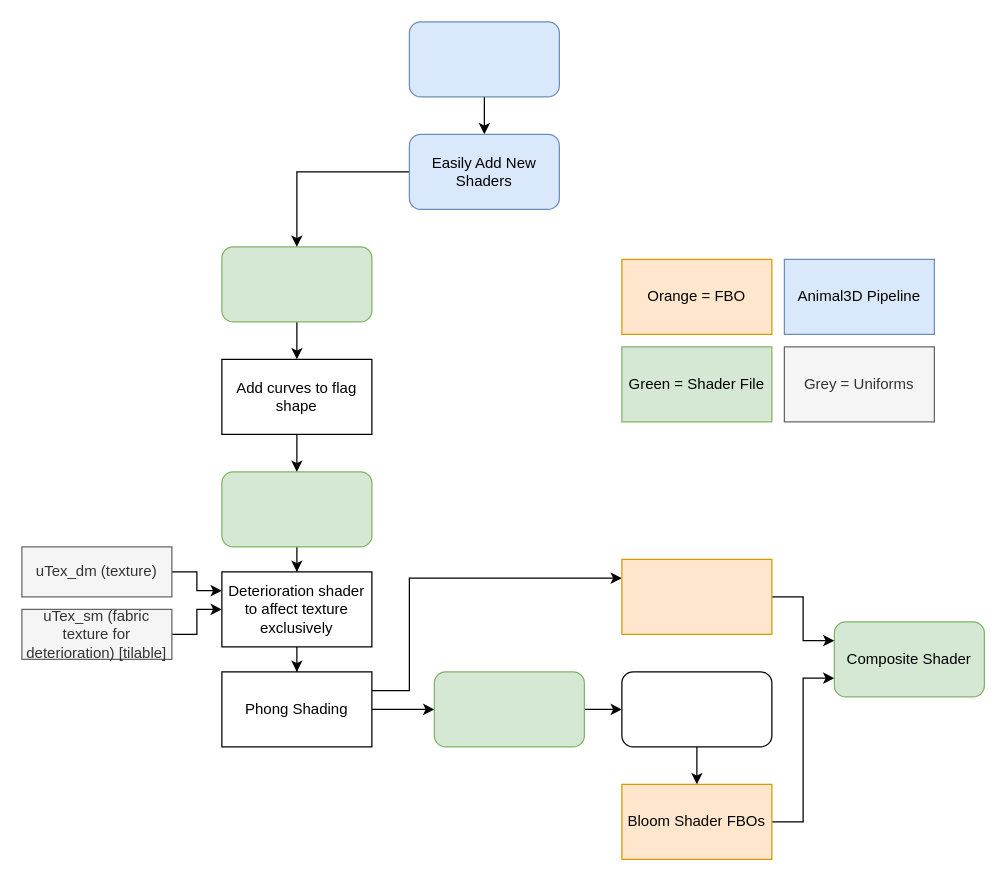
Some shapes in this 1006 by 881 pixel diagram are drawn without their labels. Here are the shapes that lost their labels. From the top down, the box of each, then its label:
(408, 21, 559, 97): New Midterm Pipeline
(221, 246, 372, 322): Vertex Shader
(221, 471, 372, 547): Fragment Shader
(621, 558, 772, 634): Frag Shader FBO
(433, 671, 584, 747): Post Processing
(621, 671, 772, 747): Bloom Shader Post Process
